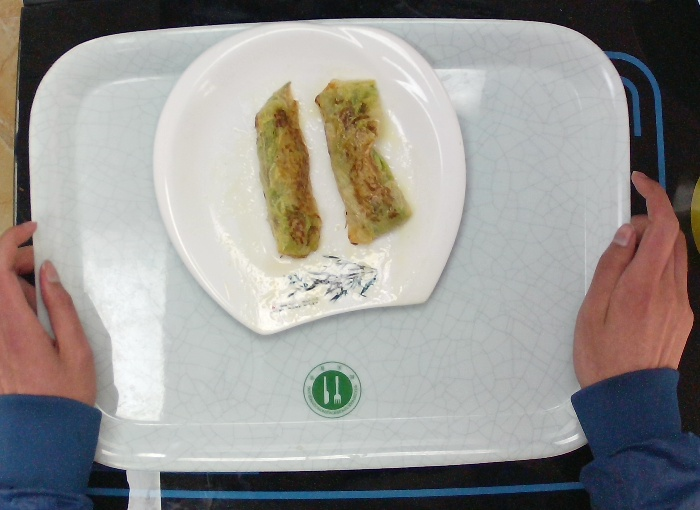JYsf-Mian_Pan: (151, 20, 468, 338)
